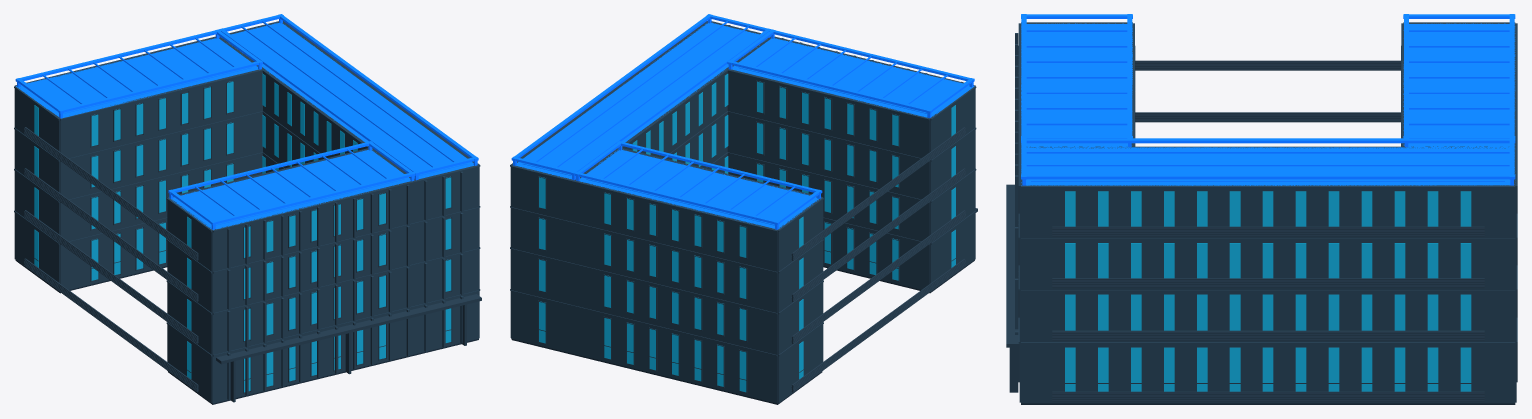
The picture shows the model from 3 angles, left to right: view 1: azimuth 30°, elevation 25°; view 2: azimuth 150°, elevation 25°; view 3: azimuth 270°, elevation 25°; orthographic projection. The views are drawn at different scales.
Visible parts, largest first — view 1: Campus_B2_F04_Envelope_White, Campus_B2_F03_Envelope_White, Campus_B2_RF_Garden_Garden, Campus_B2_F02_Envelope_White, Campus_B2_F01_Envelope_White, Campus_B2_RF_Structure_Roof, Campus_B2_F04_Glazing_Glass, Campus_B2_F01_Envelope_Frame, Campus_B2_F03_Glazing_Glass, Campus_B2_F01_Glazing_Glass, Campus_B2_RF_Structure_White, Campus_B2_F02_Glazing_Glass (+12 smaller); view 2: Campus_B2_F04_Envelope_White, Campus_B2_F03_Envelope_White, Campus_B2_RF_Garden_Garden, Campus_B2_F01_Envelope_White, Campus_B2_F02_Envelope_White, Campus_B2_RF_Structure_Roof, Campus_B2_F04_Glazing_Glass, Campus_B2_F03_Glazing_Glass, Campus_B2_F01_Glazing_Glass, Campus_B2_F02_Glazing_Glass, Campus_B2_RF_Structure_White, Campus_B2_F04_Glazing_Frame (+12 smaller); view 3: Campus_B2_RF_Garden_Garden, Campus_B2_F04_Envelope_White, Campus_B2_F01_Envelope_White, Campus_B2_RF_Structure_Roof, Campus_B2_F02_Envelope_White, Campus_B2_F03_Envelope_White, Campus_B2_RF_Structure_White, Campus_B2_F01_Glazing_Glass, Campus_B2_F03_Envelope_Frame, Campus_B2_F04_Envelope_Frame, Campus_B2_F01_Envelope_Frame, Campus_B2_F03_Envelope_Louver (+8 smaller).
Part boxes in pixels (<box>): Campus_B2_F04_Envelope_White: <box>14,21,480,271</box>; Campus_B2_F03_Envelope_White: <box>14,111,480,312</box>; Campus_B2_RF_Garden_Garden: <box>31,25,467,225</box>; Campus_B2_F02_Envelope_White: <box>14,152,480,354</box>; Campus_B2_F01_Envelope_White: <box>14,210,480,403</box>; Campus_B2_RF_Structure_Roof: <box>15,14,478,230</box>; Campus_B2_F04_Glazing_Glass: <box>34,73,451,257</box>; Campus_B2_F01_Envelope_Frame: <box>24,258,481,402</box>; Campus_B2_F03_Glazing_Glass: <box>34,115,451,298</box>; Campus_B2_F01_Glazing_Glass: <box>34,222,451,392</box>; Campus_B2_RF_Structure_White: <box>17,19,477,229</box>; Campus_B2_F02_Glazing_Glass: <box>34,156,451,340</box>; Campus_B2_F04_Envelope_White: <box>510,21,976,271</box>; Campus_B2_F03_Envelope_White: <box>510,111,976,312</box>; Campus_B2_RF_Garden_Garden: <box>523,25,959,225</box>; Campus_B2_F01_Envelope_White: <box>510,210,976,403</box>; Campus_B2_F02_Envelope_White: <box>510,152,976,354</box>; Campus_B2_RF_Structure_Roof: <box>511,14,974,229</box>; Campus_B2_F04_Glazing_Glass: <box>539,74,955,257</box>; Campus_B2_F03_Glazing_Glass: <box>539,115,955,298</box>; Campus_B2_F01_Glazing_Glass: <box>539,222,955,392</box>; Campus_B2_F02_Glazing_Glass: <box>539,156,955,340</box>; Campus_B2_RF_Structure_White: <box>513,15,973,229</box>; Campus_B2_F04_Glazing_Frame: <box>538,80,899,259</box>; Campus_B2_RF_Garden_Garden: <box>1031,26,1504,181</box>; Campus_B2_F04_Envelope_White: <box>1015,22,1517,238</box>; Campus_B2_F01_Envelope_White: <box>1015,317,1517,403</box>; Campus_B2_RF_Structure_Roof: <box>1021,14,1515,185</box>; Campus_B2_F02_Envelope_White: <box>1015,265,1517,342</box>; Campus_B2_F03_Envelope_White: <box>1015,213,1517,289</box>; Campus_B2_RF_Structure_White: <box>1022,14,1513,185</box>; Campus_B2_F01_Glazing_Glass: <box>1065,347,1471,391</box>; Campus_B2_F03_Envelope_Frame: <box>1052,112,1484,288</box>; Campus_B2_F04_Envelope_Frame: <box>1052,60,1484,236</box>; Campus_B2_F01_Envelope_Frame: <box>1006,184,1484,401</box>; Campus_B2_F03_Envelope_Louver: <box>1052,114,1484,287</box>.
Size of the model in its own units: 38.96 by 24.74 by 50.3.
